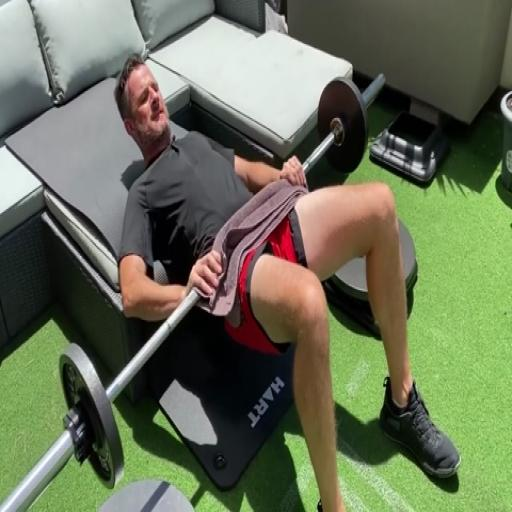exercise: (111, 51, 463, 511)
